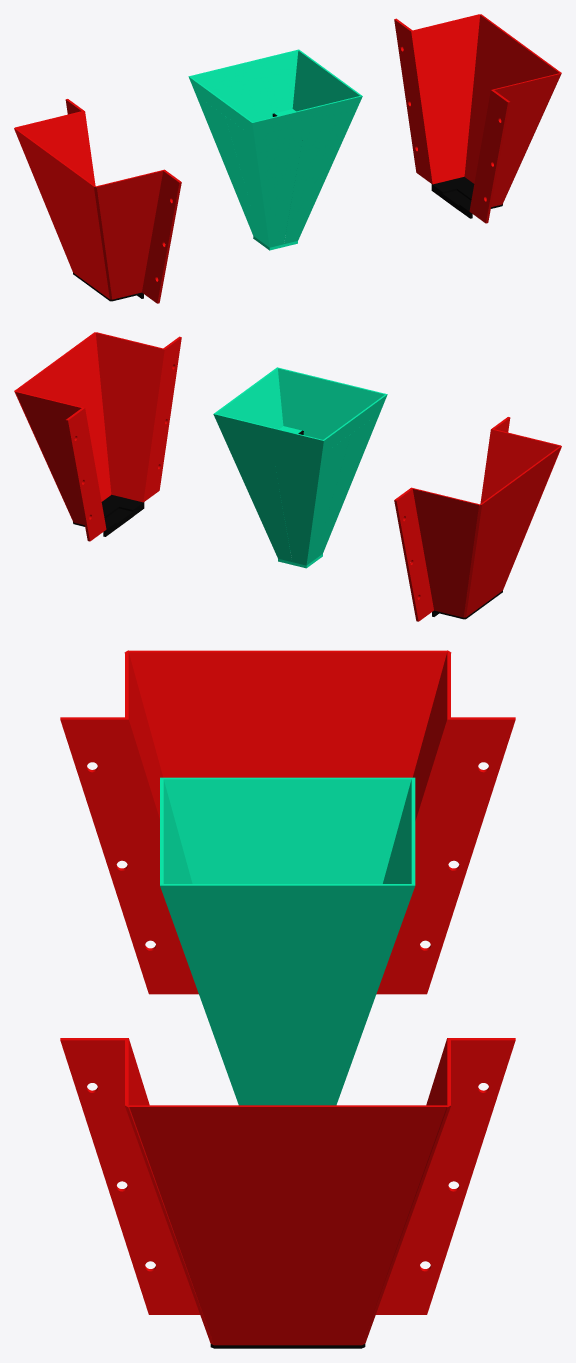
Rendered from EDO.glb.
The picture shows the model from 3 angles, top to bottom: view 1: azimuth 30°, elevation 25°; view 2: azimuth 150°, elevation 25°; view 3: azimuth 270°, elevation 25°; orthographic projection. The views are drawn at different scales.
Parts seen in each view (by area): view 1: outer, inner, common; view 2: outer, inner, common; view 3: outer, inner.
Boxes of the visible parts, x1,y1,x2,y2 form: outer: (14,14,561,303); inner: (188,49,362,250); common: (73,113,502,301); outer: (14,332,561,621); inner: (213,367,387,568); common: (73,430,502,619); outer: (60,650,515,1345); inner: (160,777,415,1105).
Bounding box in the file's own units: 0.5835 × 0.1924 × 0.2458.
